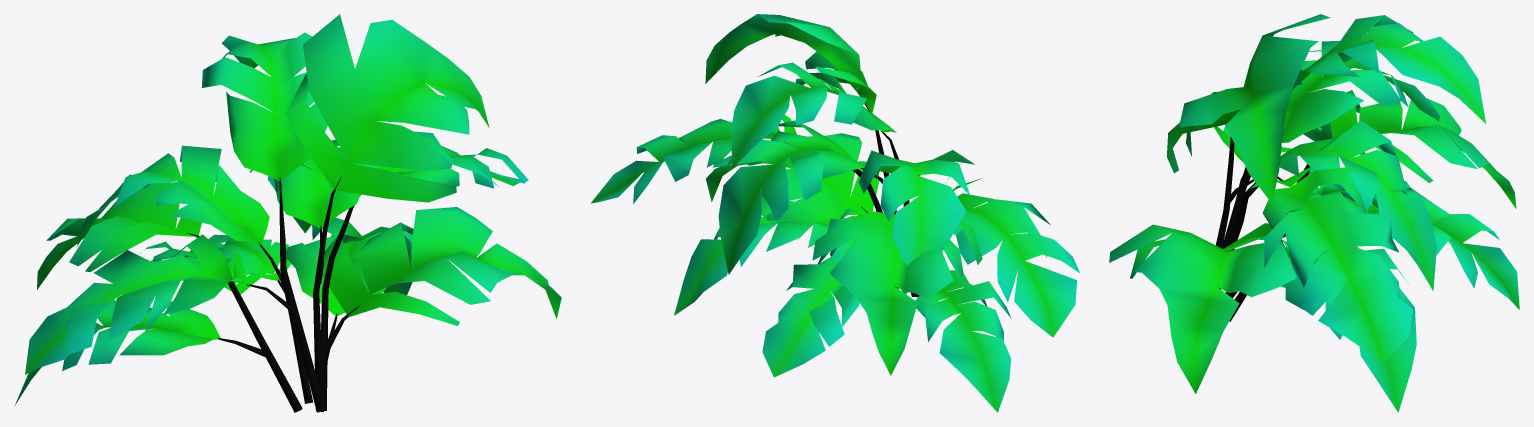
The model's file is SM_EagleFern_03.fbx.
3 renders of one model, left to right at view 1: azimuth 30°, elevation 25°; view 2: azimuth 150°, elevation 25°; view 3: azimuth 270°, elevation 25°, orthographic. The views are drawn at different scales.
Parts seen in each view (by area): view 1: SM_EagleFern_03_LOD0; view 2: SM_EagleFern_03_LOD0; view 3: SM_EagleFern_03_LOD0.
Boxes of the visible parts, left/top/right/bottom form: SM_EagleFern_03_LOD0: left=15, top=14, right=561, bottom=412; SM_EagleFern_03_LOD0: left=591, top=14, right=1080, bottom=412; SM_EagleFern_03_LOD0: left=1109, top=14, right=1519, bottom=412.
Bounding box in the file's own units: 82.7 × 55.61 × 53.99.
